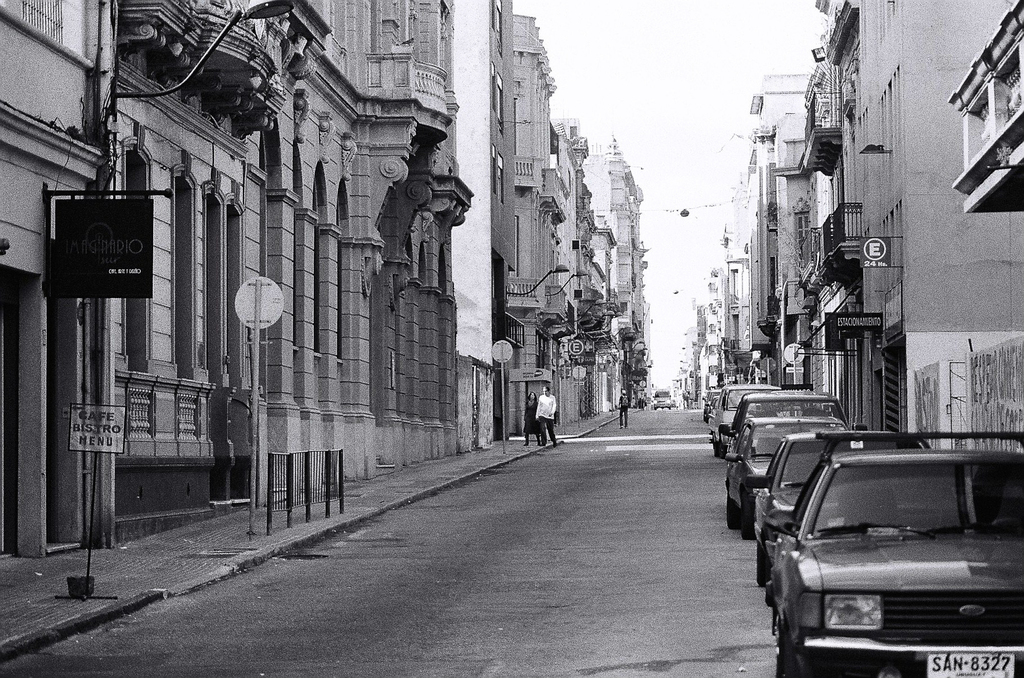mobil: (783, 447, 1024, 678)
